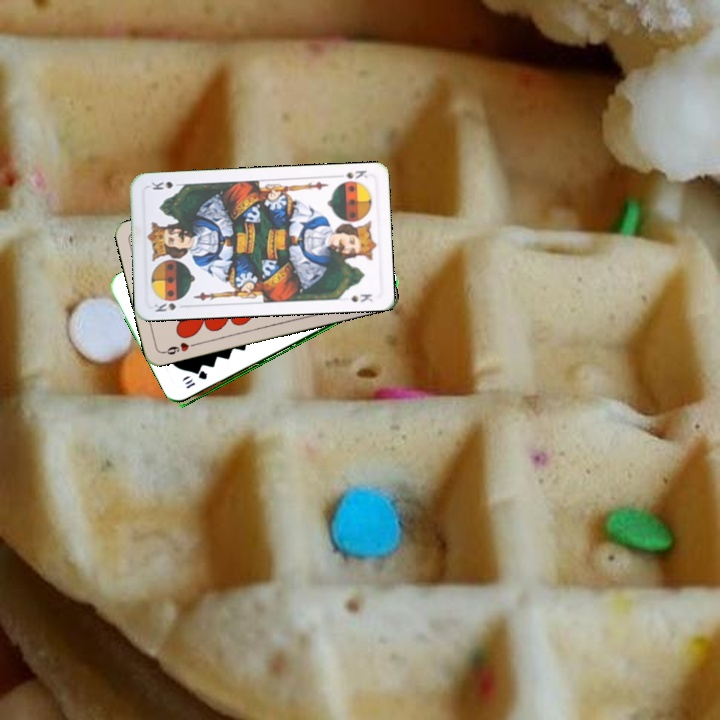G10: (181, 368, 210, 391)
H9: (159, 338, 199, 357)
SK: (150, 295, 186, 314), (341, 166, 373, 181)
